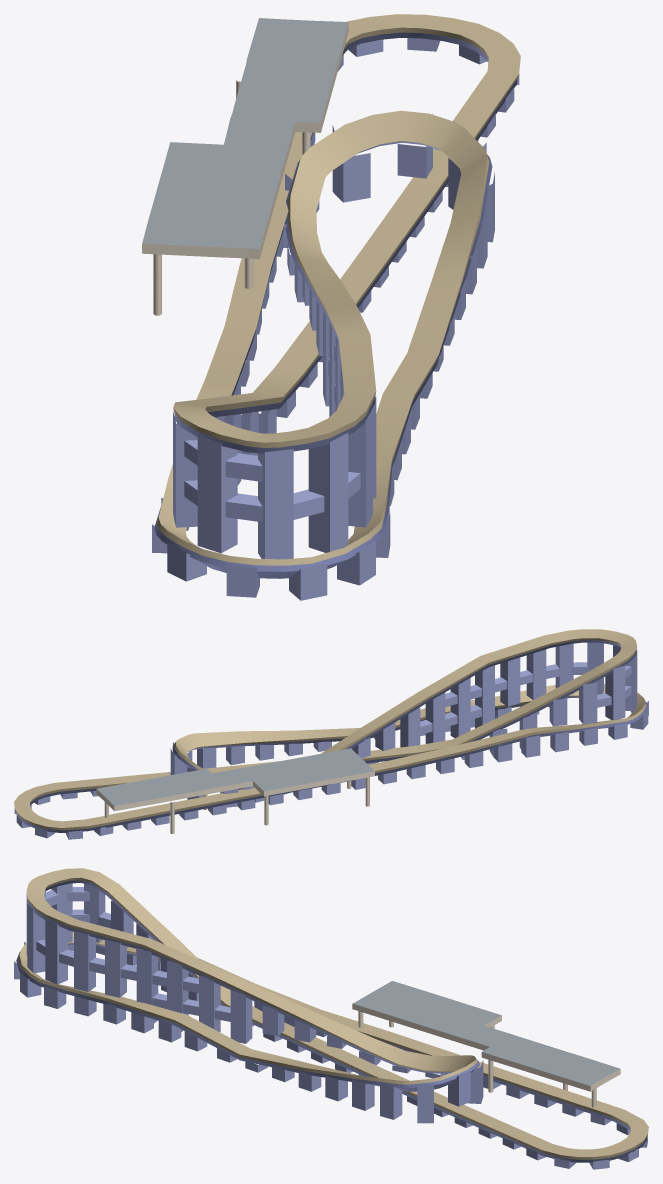
3 views of the same model, one above another, from view 1: azimuth 30°, elevation 25°; view 2: azimuth 150°, elevation 25°; view 3: azimuth 270°, elevation 25° (orthographic). The views are drawn at different scales.
Parts seen in each view (by area): view 1: woodstock-express-carowinds; view 2: woodstock-express-carowinds; view 3: woodstock-express-carowinds.
Boxes of the visible parts, x1,y1,x2,y2 form: woodstock-express-carowinds: (142,14,520,600); woodstock-express-carowinds: (14,629,648,839); woodstock-express-carowinds: (14,868,648,1169).
Bounding box in the file's own units: 73.98 × 14.14 × 90.94.
